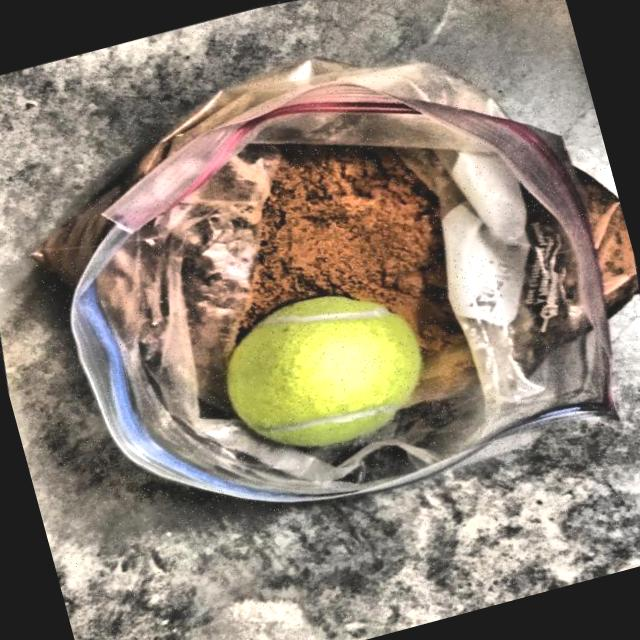tennis-ball: (198, 266, 447, 478)
